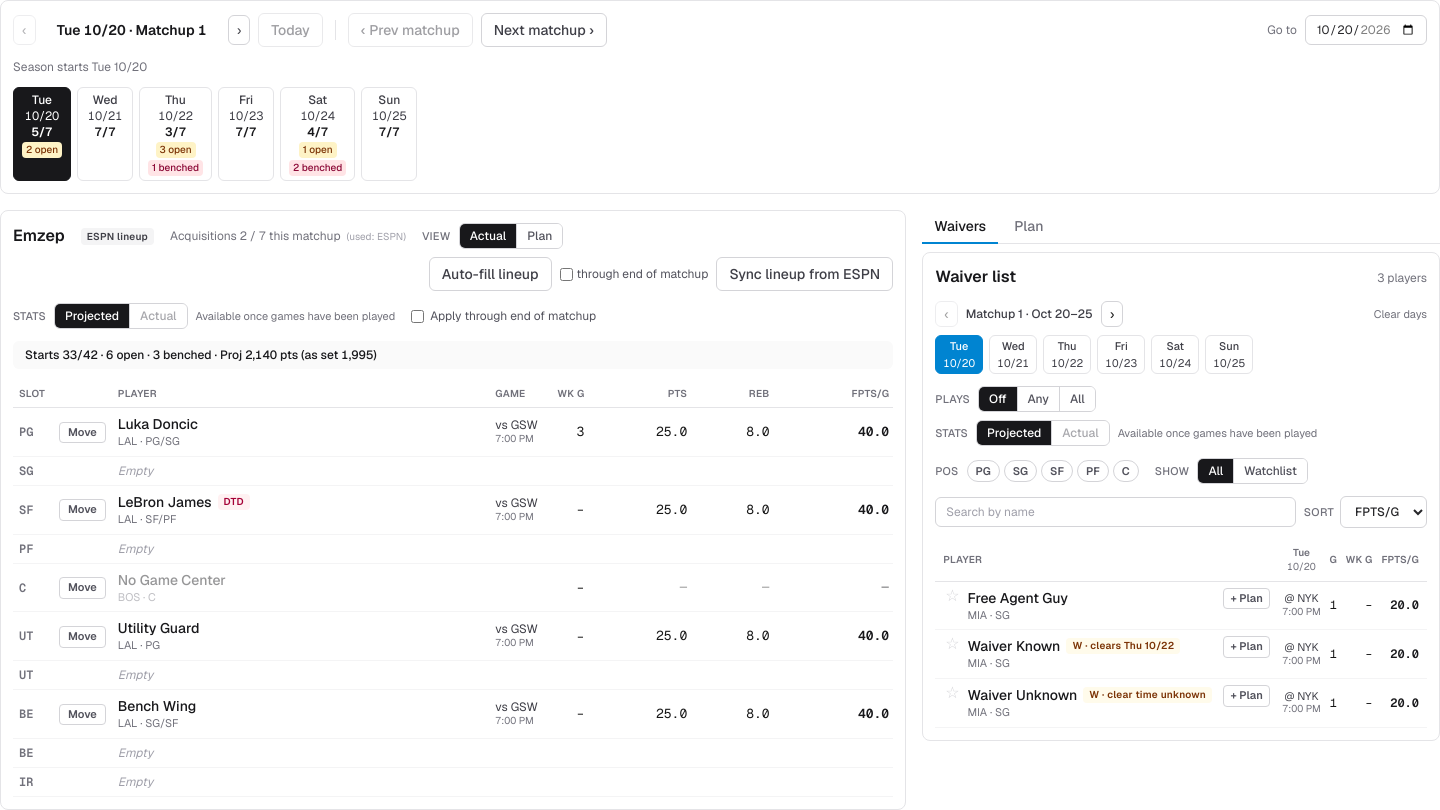
Test: Auto-fill lineup › has its own through-end-of-matchup box
Expected: the button "Luka Doncic" is shown, [118,414,198,434]
Expected: the button "Free Agent Guy" is shown, [968,588,1068,608]
Step 1. Click the checkbox labelled "through end of matchup" → x=566, y=274, box [560,268,573,280]
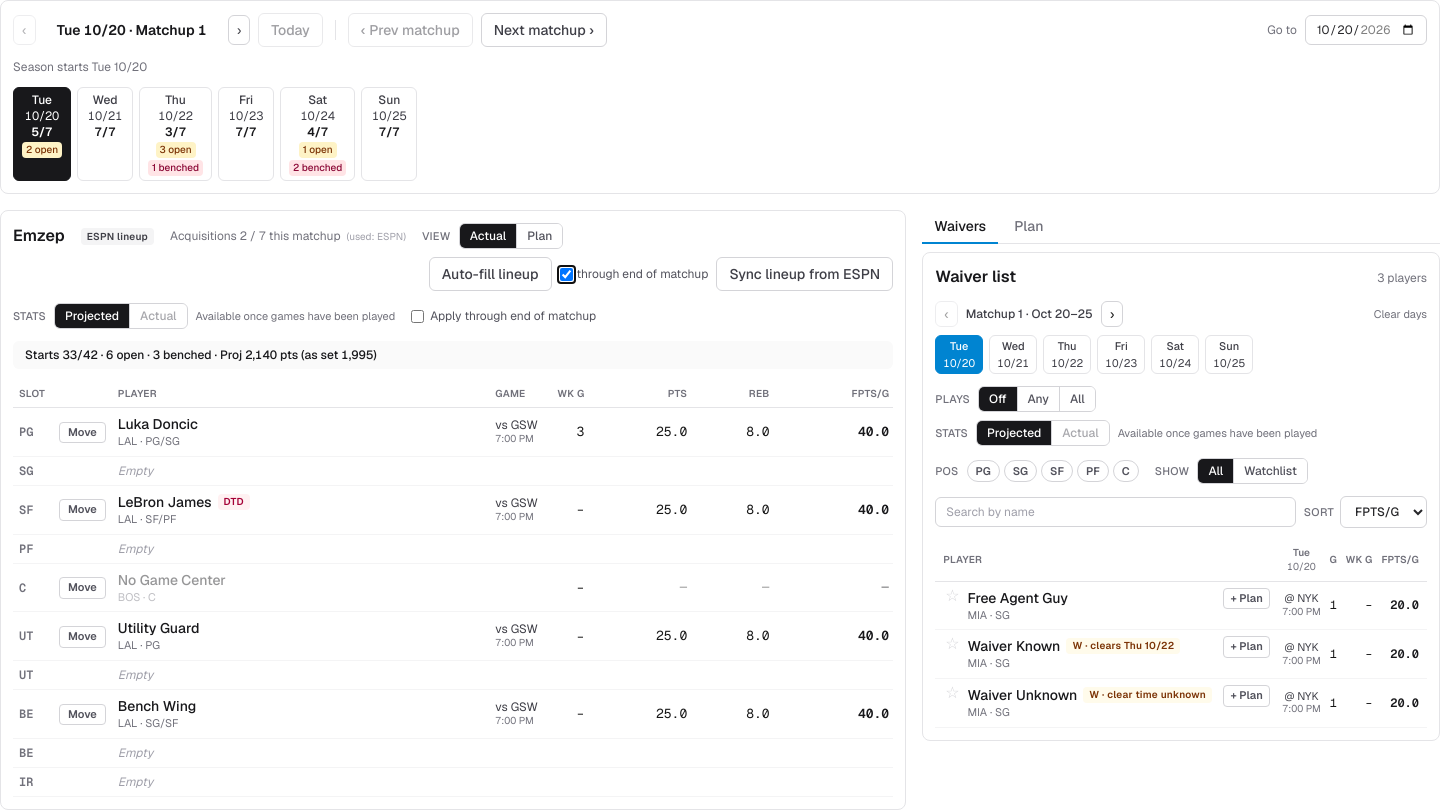
Expected: the checkbox labelled "Apply through end of matchup" is not checked, [411,310,424,322]
Step 2. Click the button "Auto-fill lineup" → x=490, y=274, box [429,257,552,291]
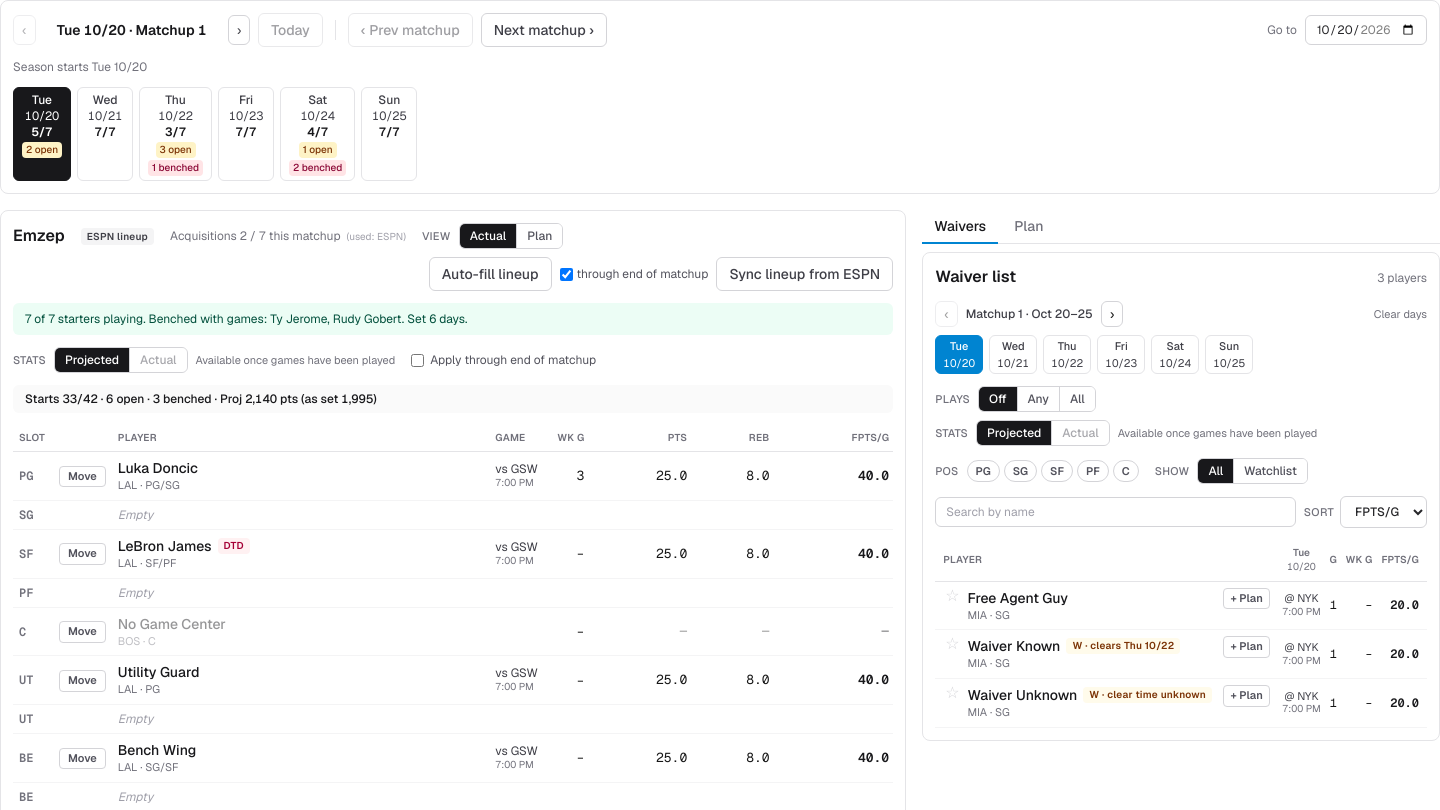
Expected: the text "Set 6 days." is shown, [25,311,467,327]
